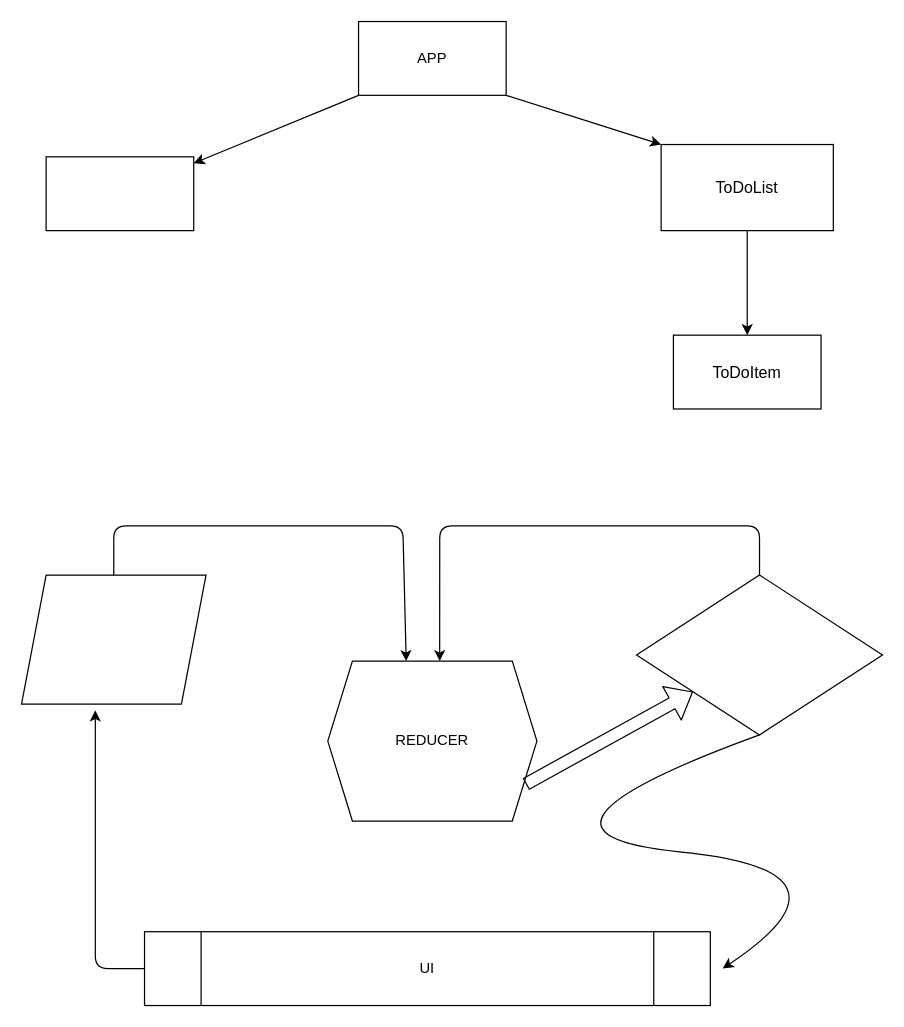
This 904x1027 diagram has some shape labels left out. The shapes that lost their labels are listed below. From the top down, each one's centre as x and y in pixels, then its label:
At point 119,193: "InputField".
At point 113,639: "ACTION".
At point 759,654: "STORE".
